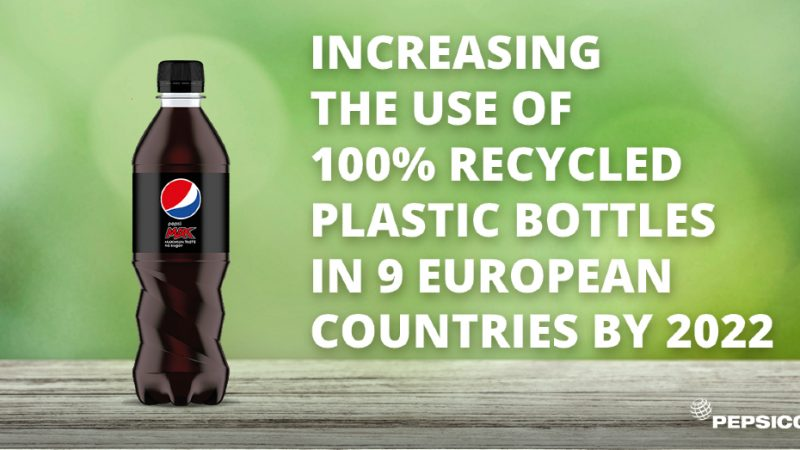plastic_bottle: (85, 29, 310, 450)
